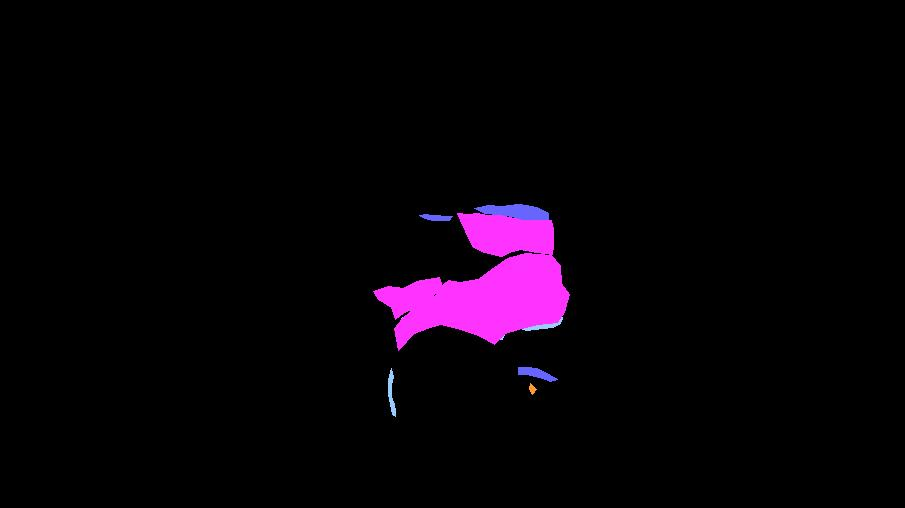Corrosion: (441, 289, 513, 320), (522, 306, 562, 330), (404, 284, 438, 311), (388, 368, 395, 416), (416, 307, 431, 328), (395, 317, 408, 341), (496, 327, 504, 339)
Dent: (394, 253, 569, 350), (457, 213, 553, 256), (373, 277, 442, 319)
Paint chip: (529, 383, 536, 394)
Scratch: (474, 204, 548, 222), (518, 367, 557, 381), (459, 282, 492, 294), (419, 214, 452, 220)
